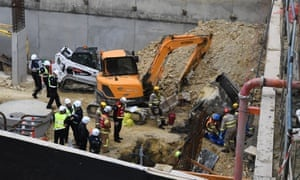blue: (211, 113, 219, 122)
red: (223, 107, 229, 114)
white: (90, 127, 99, 137), (81, 116, 90, 125), (104, 105, 112, 115), (59, 105, 67, 114), (119, 97, 127, 105), (30, 54, 38, 62), (65, 98, 72, 107), (74, 101, 81, 110), (43, 60, 50, 68)
yellow: (232, 103, 239, 110), (100, 101, 106, 109), (153, 86, 159, 93)
